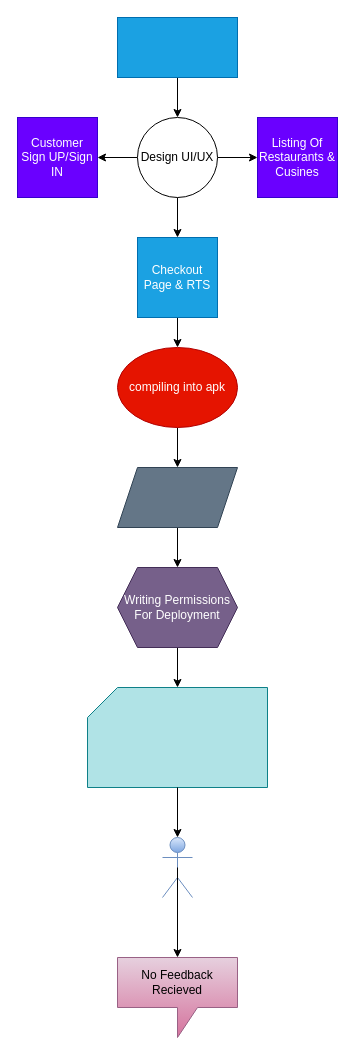
This 355x1055 diagram has some shape labels left out. The shapes that lost their labels are listed below. From the top down, each one's centre as x and y in pixels, then its label:
At pixel 177 47: "Manu Foods".
At pixel 177 497: "No Bugs Found".
At pixel 177 737: "Pushing The APK To Cloud Or AppStore".
At pixel 177 867: "Customer using Application".
